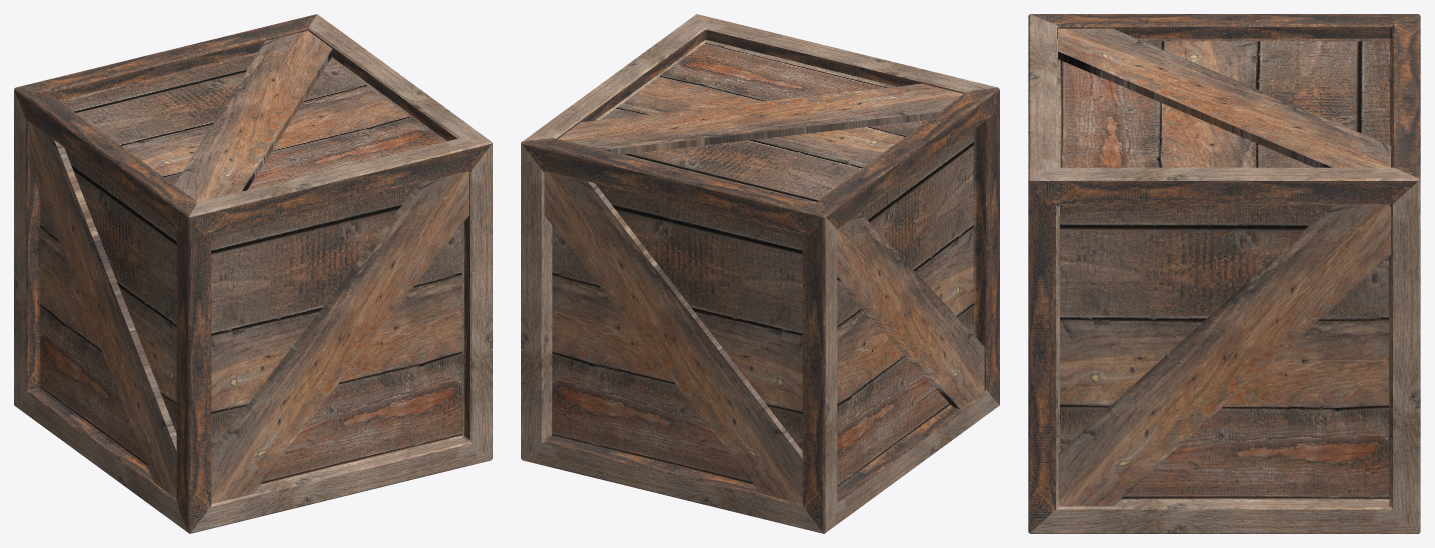
File: wooden box.fbx
3 renders of one model, left to right at view 1: azimuth 30°, elevation 25°; view 2: azimuth 150°, elevation 25°; view 3: azimuth 270°, elevation 25°, orthographic. The views are drawn at different scales.
Visible parts, largest first — view 1: box.002, cross section 1.002, cross section 3.002, cross section 2.002; view 2: box.002, cross section 1.002, cross section 2.002, cross section 3.002; view 3: box.002, cross section 3.002, cross section 2.002.
Part boxes in pixels (<box>): box.002: <box>14,14,492,533</box>; cross section 1.002: <box>211,171,469,503</box>; cross section 3.002: <box>29,122,176,498</box>; cross section 2.002: <box>174,31,332,201</box>; box.002: <box>521,14,999,533</box>; cross section 1.002: <box>544,171,802,503</box>; cross section 2.002: <box>558,83,963,154</box>; cross section 3.002: <box>837,212,984,408</box>; box.002: <box>1028,14,1420,533</box>; cross section 3.002: <box>1058,205,1390,506</box>; cross section 2.002: <box>1057,28,1390,167</box>.
Size of the model in its own units: 566 by 566 by 566.
1 material, 1 textured.
